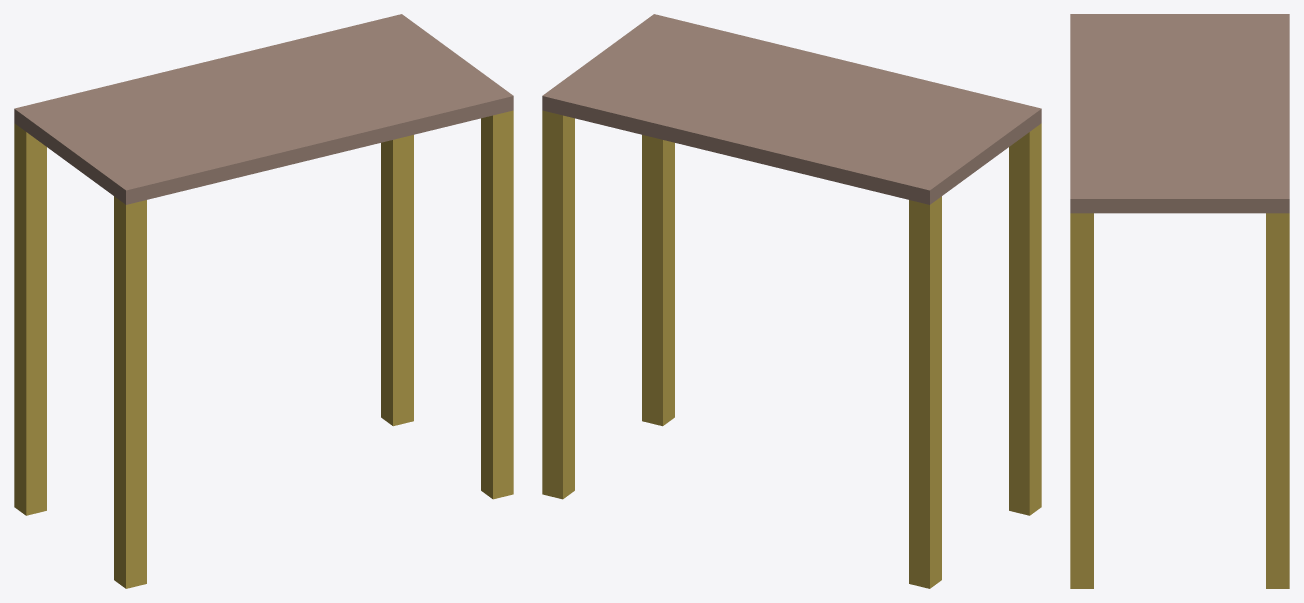
The model's file is table.glb.
The picture shows the model from 3 angles, left to right: view 1: azimuth 30°, elevation 25°; view 2: azimuth 150°, elevation 25°; view 3: azimuth 270°, elevation 25°; orthographic projection. The views are drawn at different scales.
Visible parts, largest first — view 1: tabletop, legs; view 2: tabletop, legs; view 3: tabletop, legs.
Part boxes in pixels (<box>): tabletop: <box>14,14,513,204</box>; legs: <box>14,110,513,588</box>; tabletop: <box>542,14,1041,204</box>; legs: <box>542,110,1041,588</box>; tabletop: <box>1070,14,1289,213</box>; legs: <box>1070,213,1289,588</box>.
Bounding box in the file's own units: 2.8 × 2.75 × 1.4.
